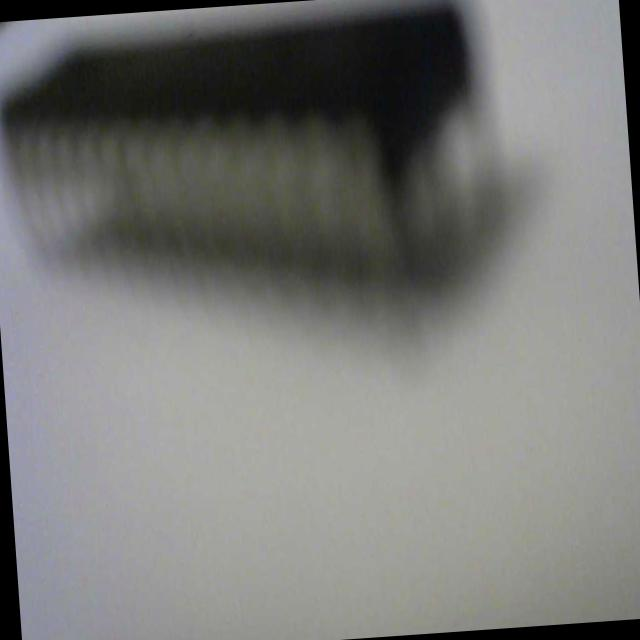atmega: (0, 0, 519, 328)
